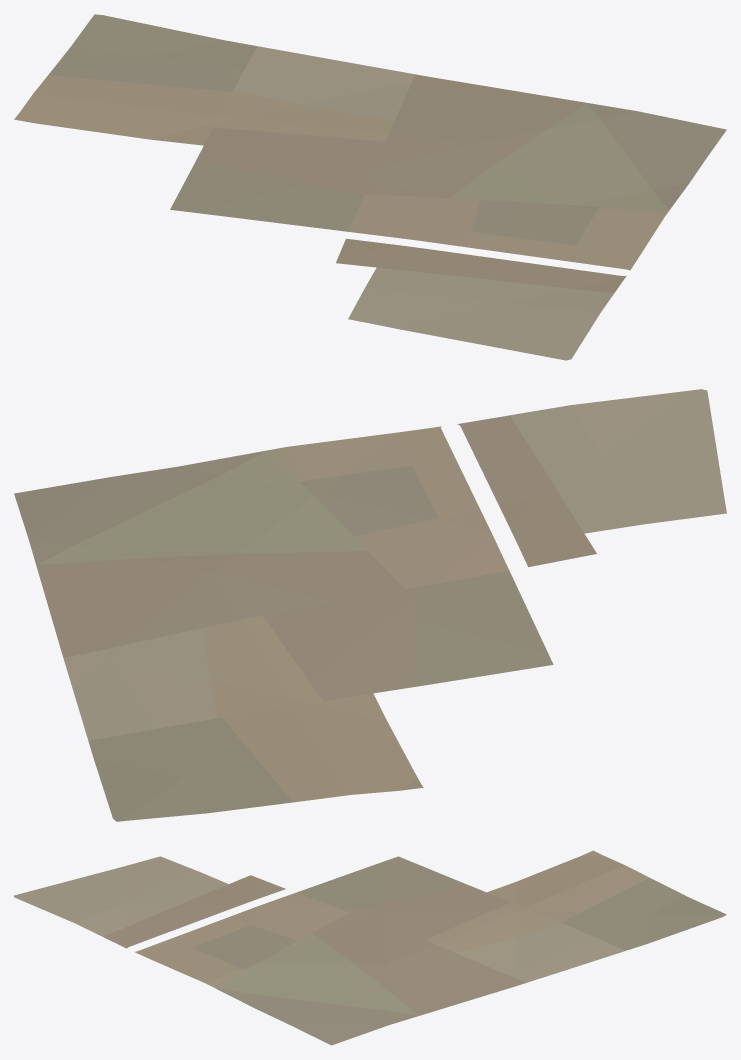
The model's file is farm_6_20_soil.glb.
The picture shows the model from 3 angles, top to bottom: view 1: azimuth 30°, elevation 25°; view 2: azimuth 150°, elevation 25°; view 3: azimuth 270°, elevation 25°; orthographic projection. The views are drawn at different scales.
Visible parts, largest first — view 1: geometry_0; view 2: geometry_0; view 3: geometry_0.
Boxes of the visible parts, <box> form: geometry_0: <box>14,14,726,360</box>; geometry_0: <box>14,389,726,821</box>; geometry_0: <box>14,850,726,1045</box>.
Bounding box in the file's own units: 274 × 10.53 × 437.
